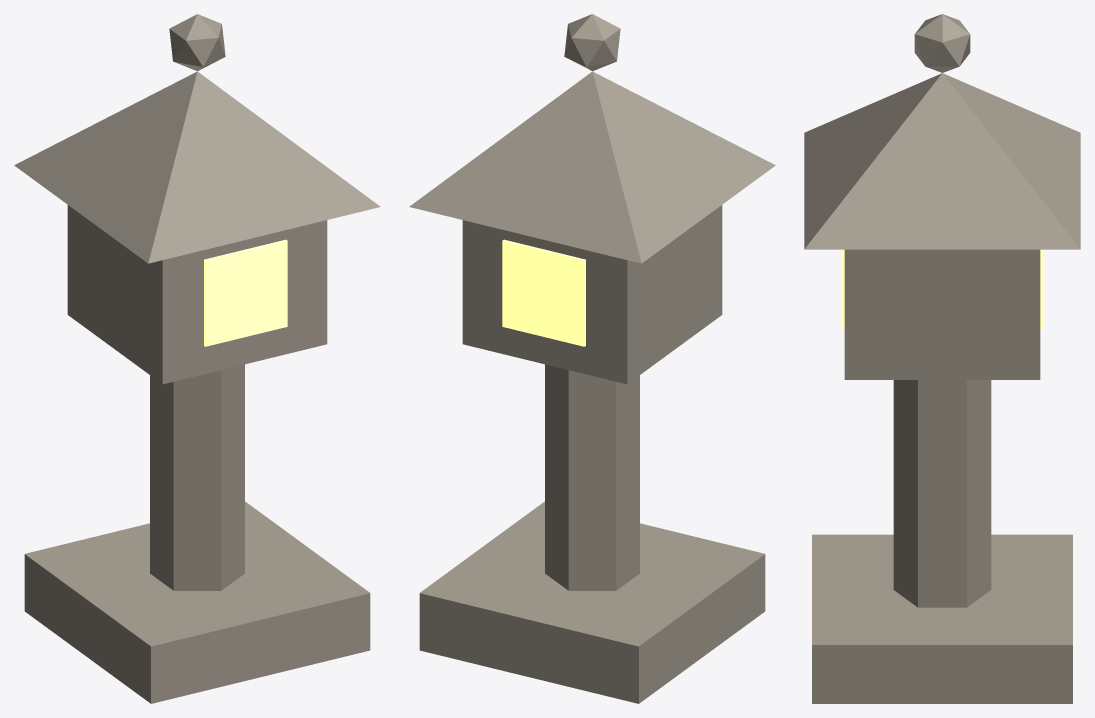
File: stone_lantern.glb
3 views of the same model, side by side, from view 1: azimuth 30°, elevation 25°; view 2: azimuth 150°, elevation 25°; view 3: azimuth 270°, elevation 25° (orthographic). The views are drawn at different scales.
Visible parts, largest first — view 1: stone_lantern; view 2: stone_lantern; view 3: stone_lantern.
Part boxes in pixels (box(x1,y1,x2,y2)): stone_lantern: box(14, 14, 380, 703); stone_lantern: box(409, 14, 775, 703); stone_lantern: box(804, 14, 1080, 703).
Size of the model in its own units: 0.8485 by 2.15 by 0.8485.
